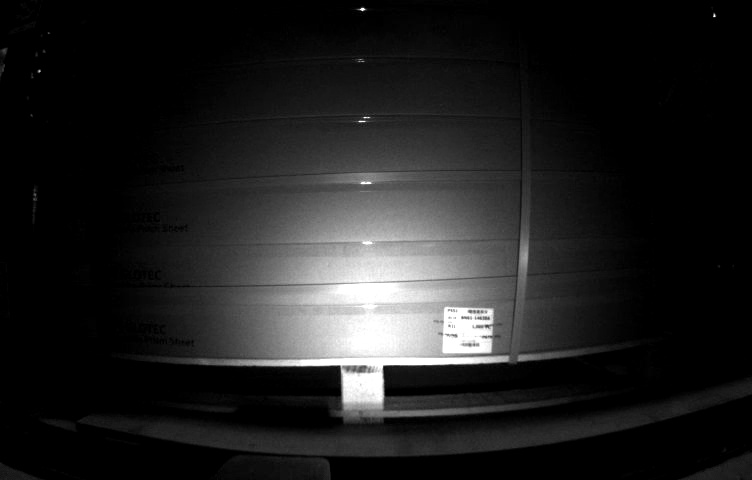True Barcode: (442, 306, 493, 355)
